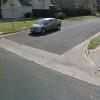Car: (24, 11, 63, 37)
